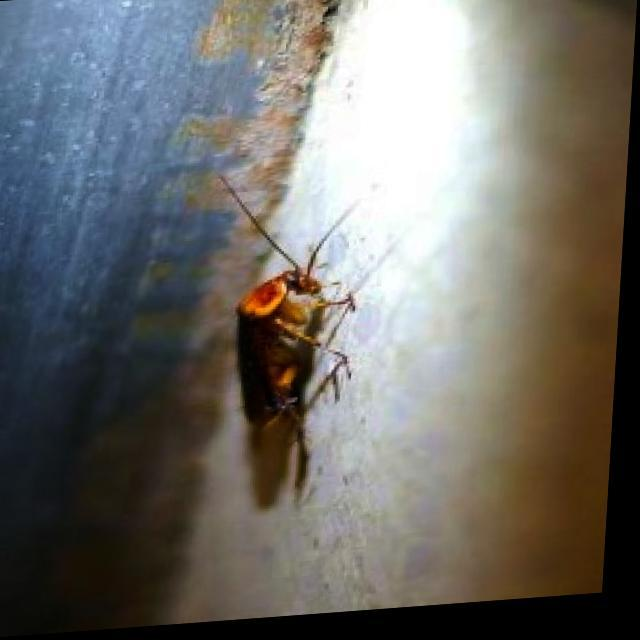cockroach: (209, 167, 370, 434)
